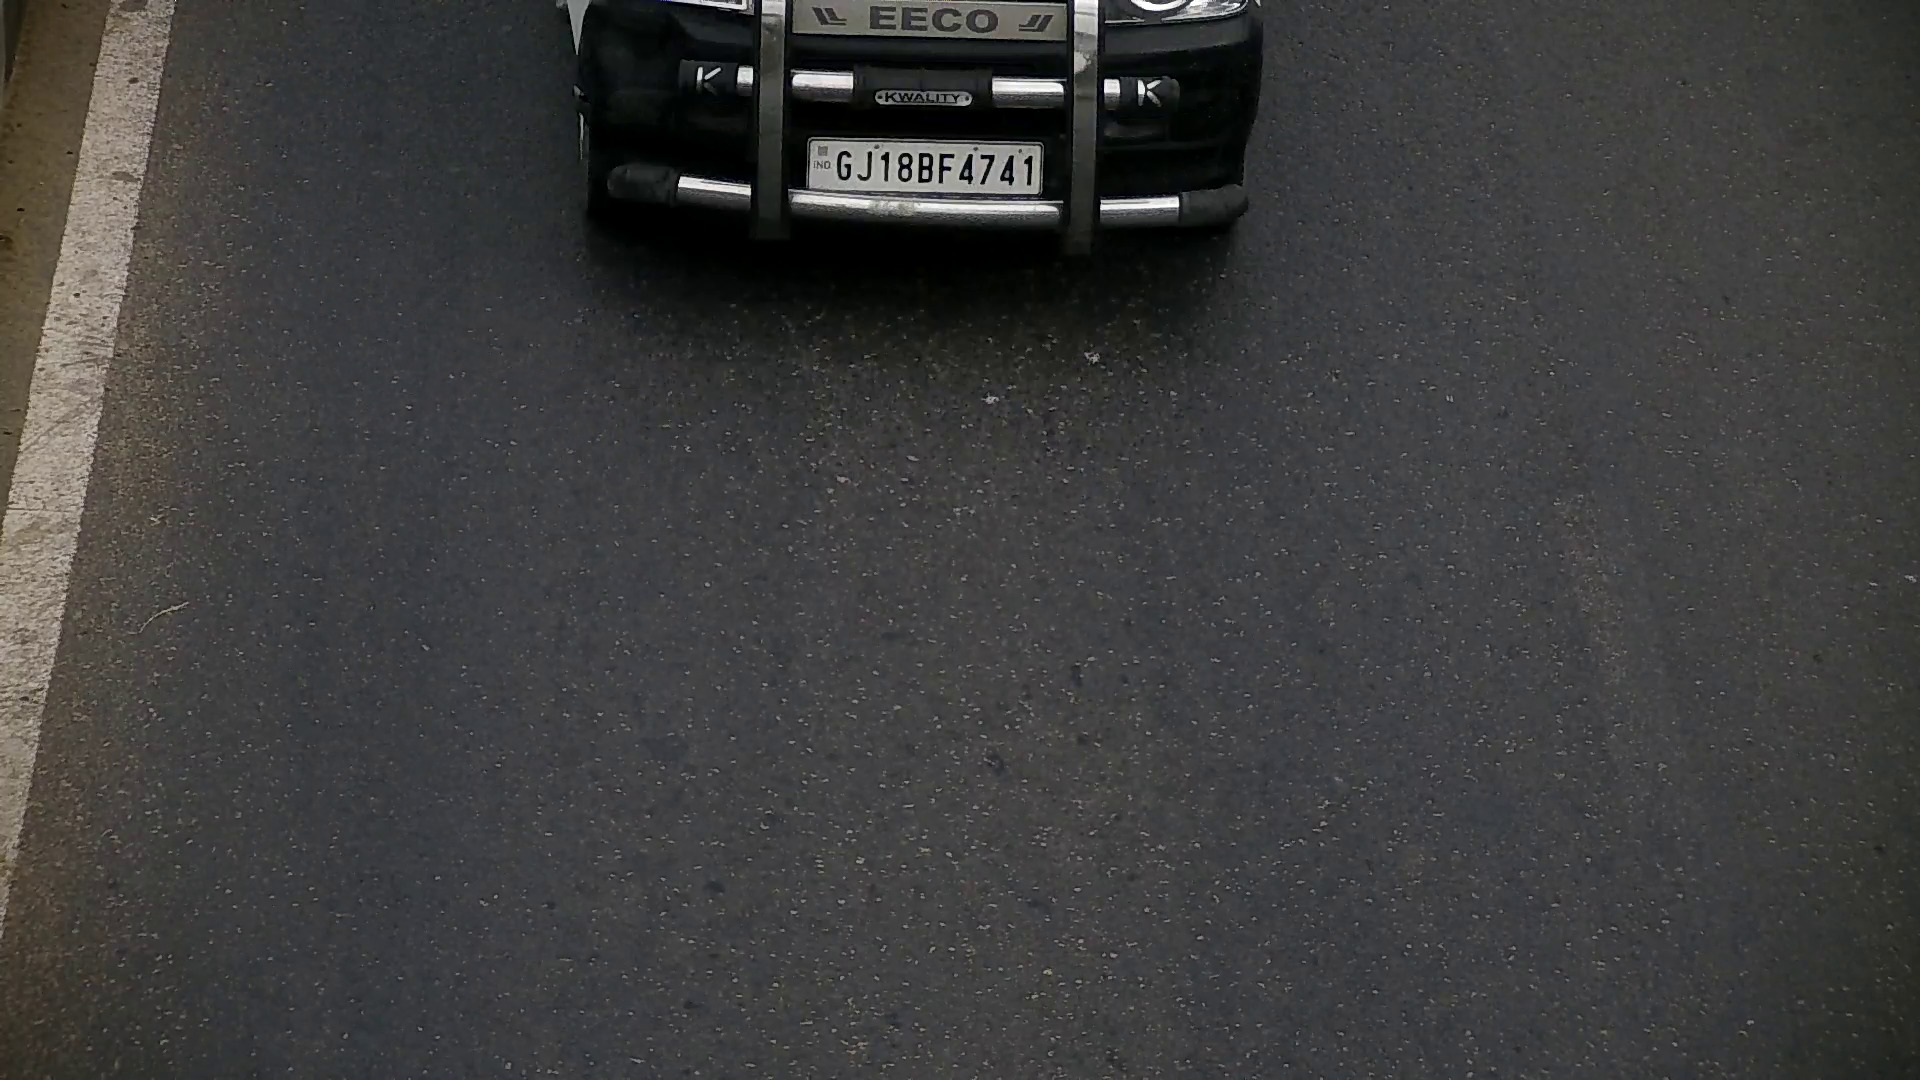numberplate: (806, 134, 1041, 191)
